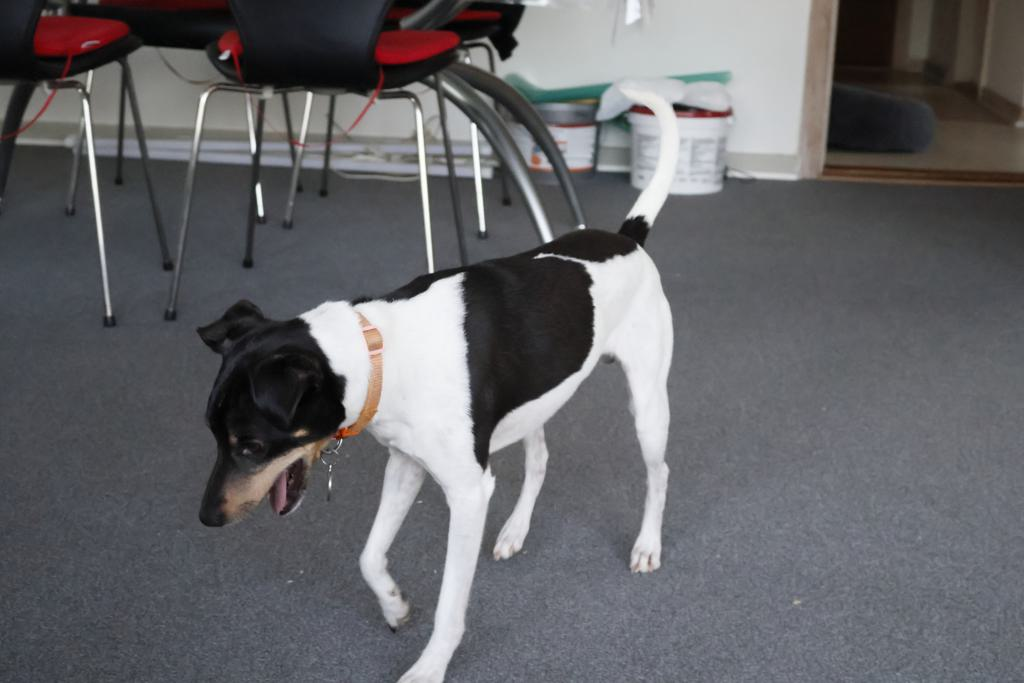Dog: (181, 82, 691, 683)
